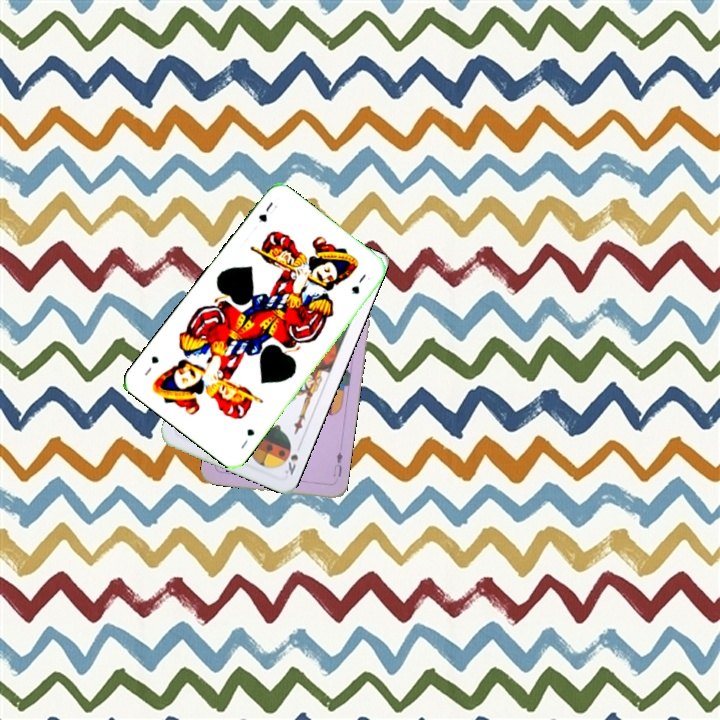EU: (329, 447, 345, 479)
GU: (254, 197, 276, 225), (237, 425, 257, 451)
SK: (281, 439, 304, 478)
